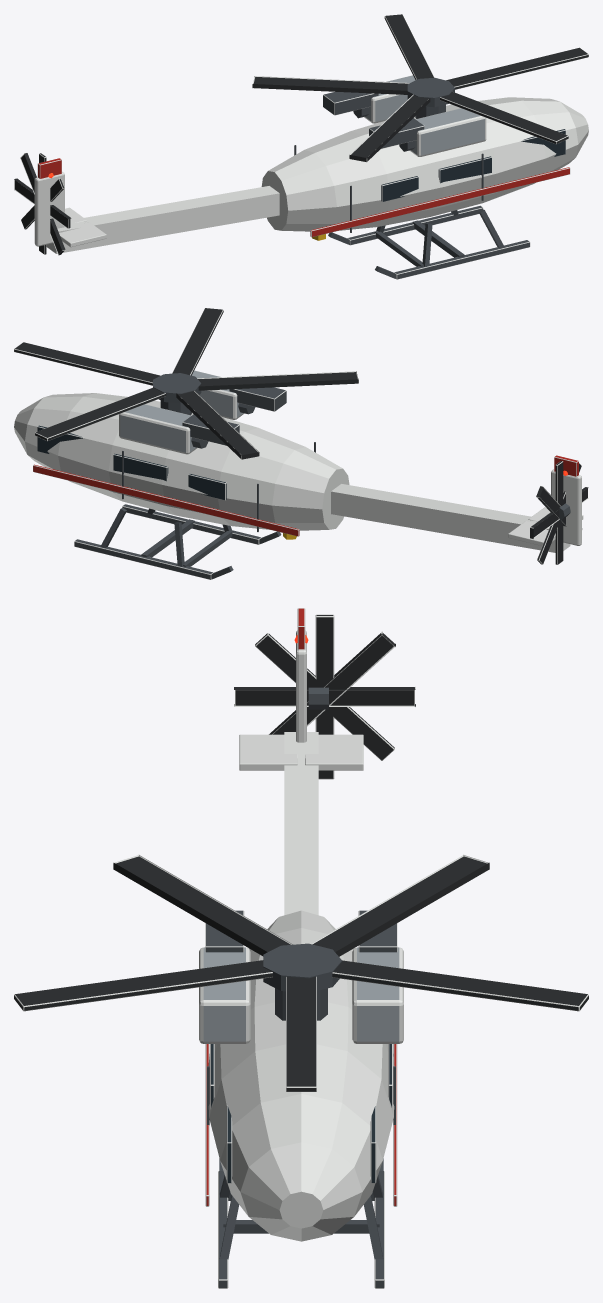
The model's file is off_helicopter.glb.
The picture shows the model from 3 angles, top to bottom: view 1: azimuth 30°, elevation 25°; view 2: azimuth 150°, elevation 25°; view 3: azimuth 270°, elevation 25°; orthographic projection. The views are drawn at different scales.
Parts seen in each view (by area): view 1: off_helicopter; view 2: off_helicopter; view 3: off_helicopter.
Boxes of the visible parts, bbox=[...] form: off_helicopter: bbox=[14, 14, 588, 279]; off_helicopter: bbox=[14, 308, 588, 579]; off_helicopter: bbox=[14, 608, 588, 1288].
Size of the model in its own units: 13.55 by 4.25 by 7.34.
